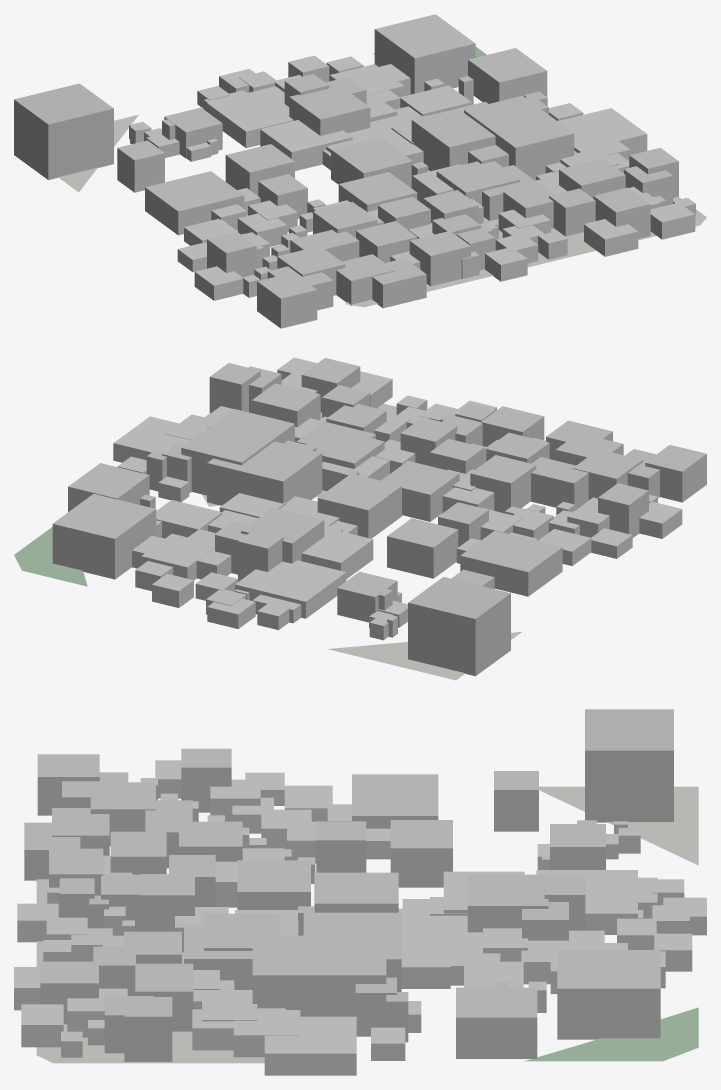
File: 133_105_mid.glb
3 views of the same model, one above another, from view 1: azimuth 30°, elevation 25°; view 2: azimuth 150°, elevation 25°; view 3: azimuth 270°, elevation 25° (orthographic). The views are drawn at different scales.
Bounding box in the file's own units: 536 × 59.9 × 523.
